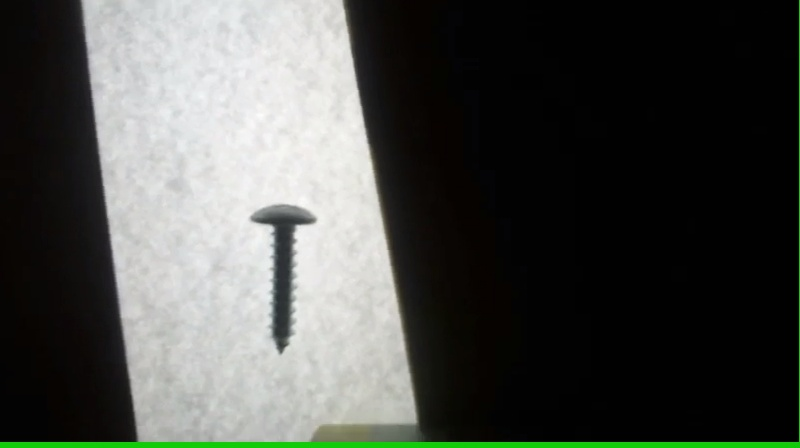S003: (245, 198, 321, 354)
